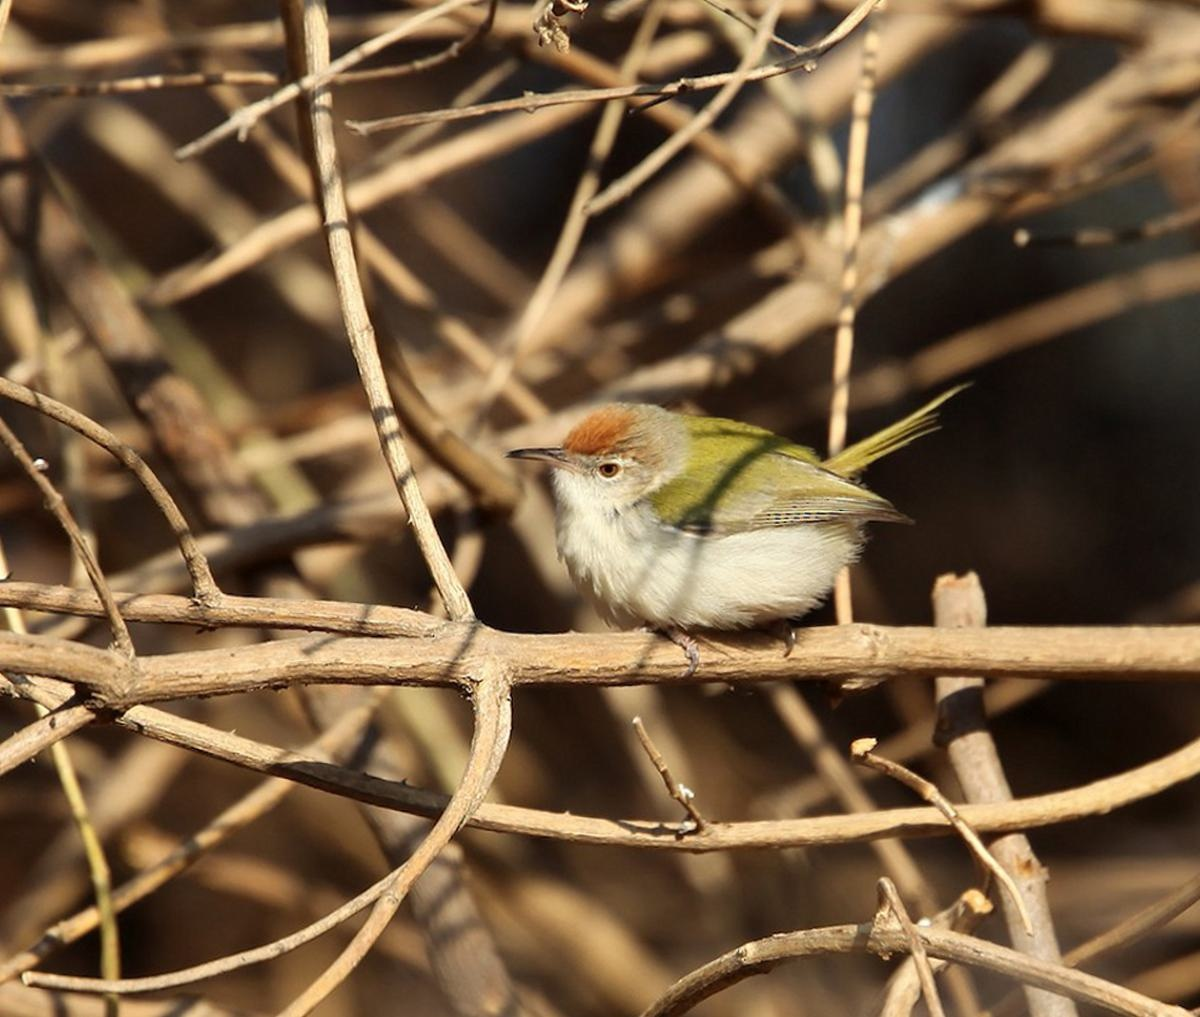tailorbird: (490, 381, 922, 659)
